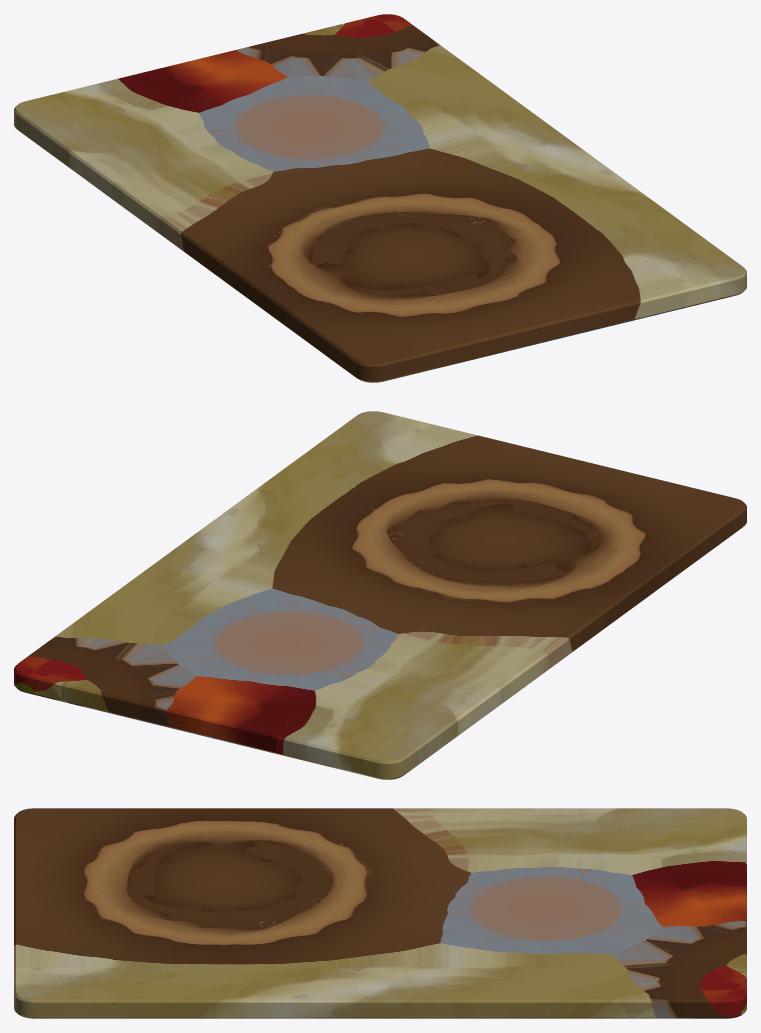
Rendered from 鑰匙卡.fbx.
3 renders of one model, top to bottom at view 1: azimuth 30°, elevation 25°; view 2: azimuth 150°, elevation 25°; view 3: azimuth 270°, elevation 25°, orthographic.
Parts seen in each view (by area): view 1: MO_Key_Card; view 2: MO_Key_Card; view 3: MO_Key_Card.
Boxes of the visible parts, x1=… form: MO_Key_Card: x1=14, y1=14, x2=746, y2=382; MO_Key_Card: x1=14, y1=411, x2=746, y2=779; MO_Key_Card: x1=14, y1=808, x2=746, y2=1018.
Bounding box in the file's own units: 59.38 × 2.72 × 95.24.
